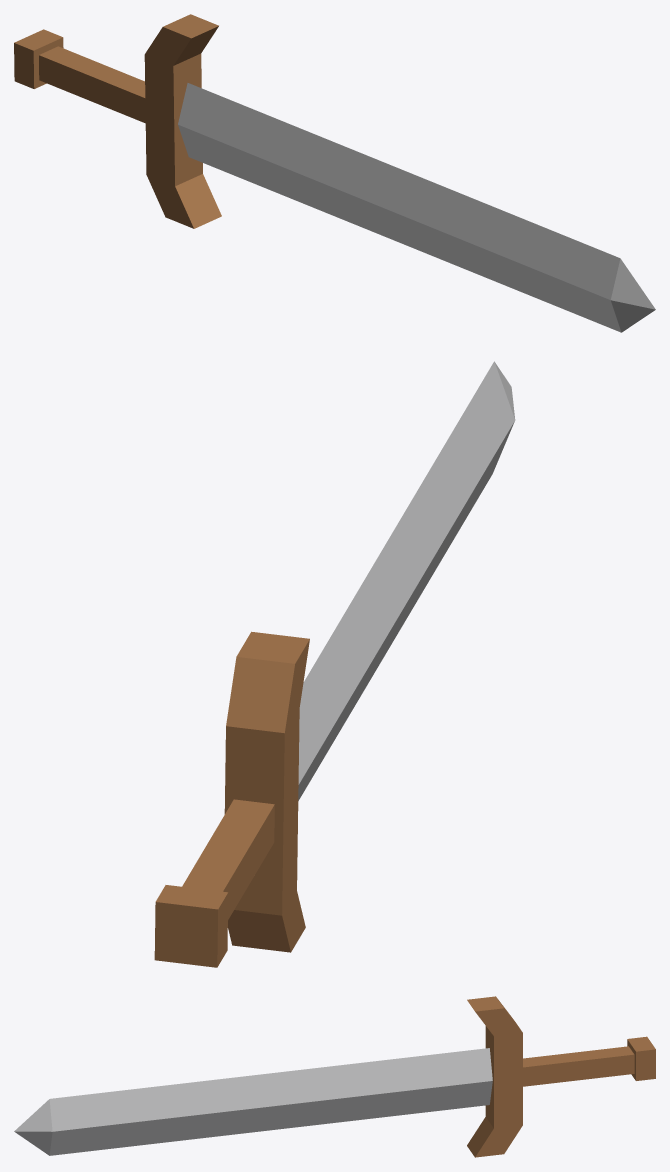
The model's file is sword.gltf.
The picture shows the model from 3 angles, top to bottom: view 1: azimuth 30°, elevation 25°; view 2: azimuth 150°, elevation 25°; view 3: azimuth 270°, elevation 25°; orthographic projection. The views are drawn at different scales.
Parts seen in each view (by area): view 1: Sword; view 2: Sword; view 3: Sword.
Part boxes in pixels (x1,y1,x2,y2): Sword: (14,14,655,332); Sword: (154,361,515,967); Sword: (14,996,655,1157).
Size of the model in its own units: 0.1949 by 0.1588 by 0.6355.
Materials: 1 (1 with a texture image).
